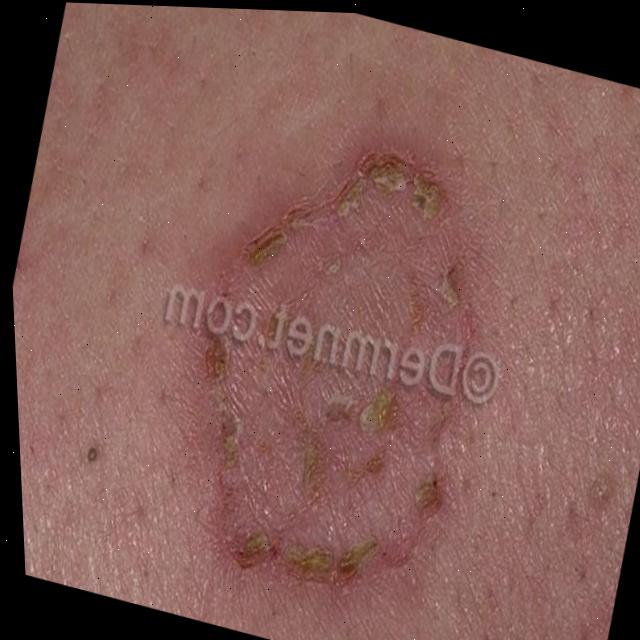Eczema: (155, 109, 527, 622)
